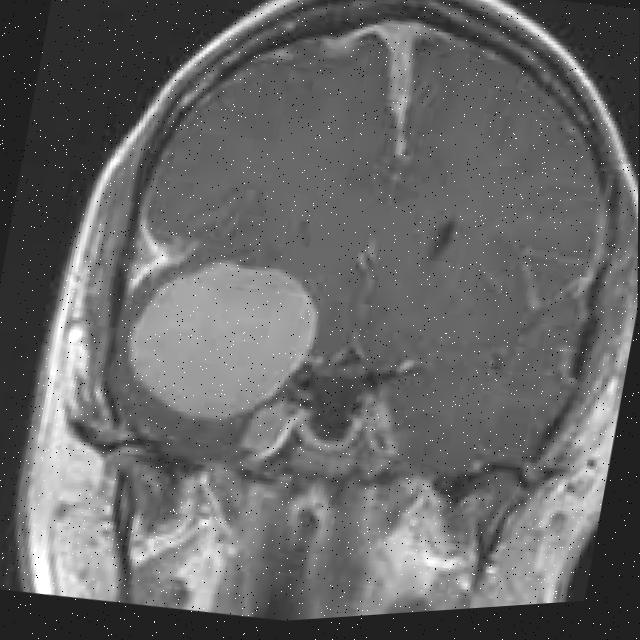Meningioma: (111, 235, 330, 446)
